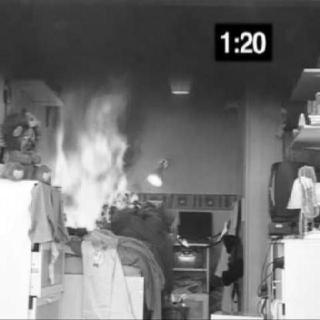Fire: (55, 79, 138, 230)
Smoke: (28, 13, 292, 86)
